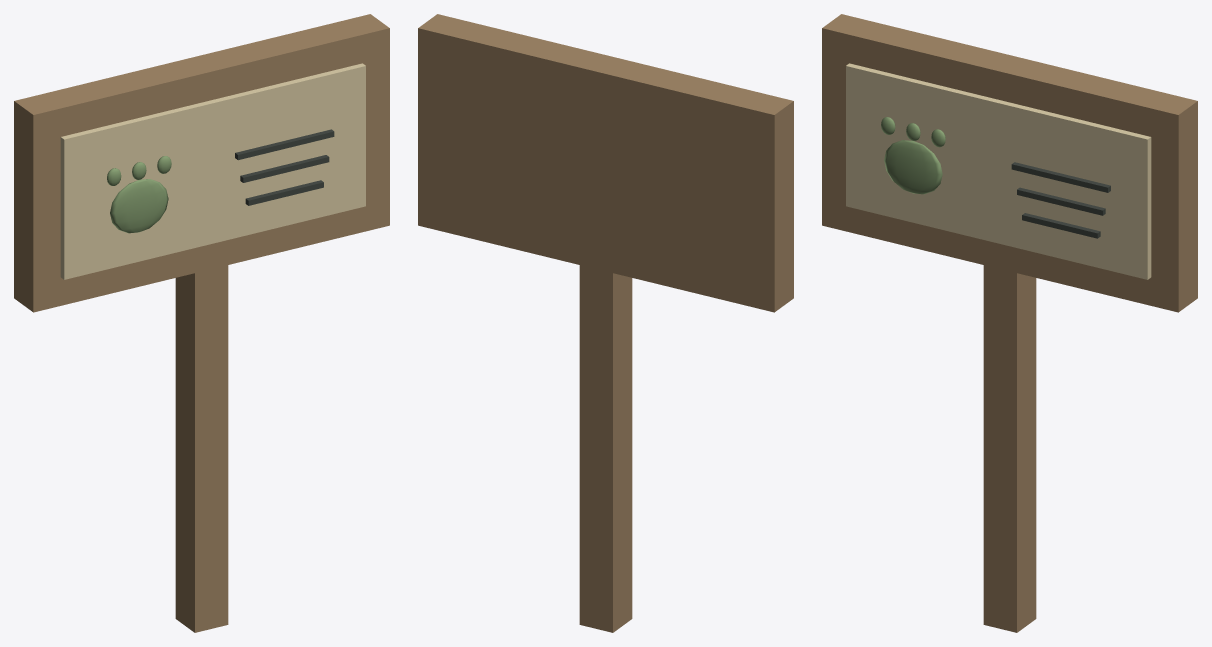
Rendered from zoo-and-safari-park-builder-species-information-sign-f378ba4e__21493.glb.
3 views of the same model, side by side, from view 1: azimuth 30°, elevation 25°; view 2: azimuth 150°, elevation 25°; view 3: azimuth 330°, elevation 25° (orthographic).
Visible parts, largest first — view 1: species-information-sign; view 2: species-information-sign; view 3: species-information-sign.
Boxes of the visible parts, <box> form: species-information-sign: <box>14,14,389,632</box>; species-information-sign: <box>418,14,793,632</box>; species-information-sign: <box>822,14,1197,632</box>.
Size of the model in its own units: 0.85 by 1.27 by 0.122.
